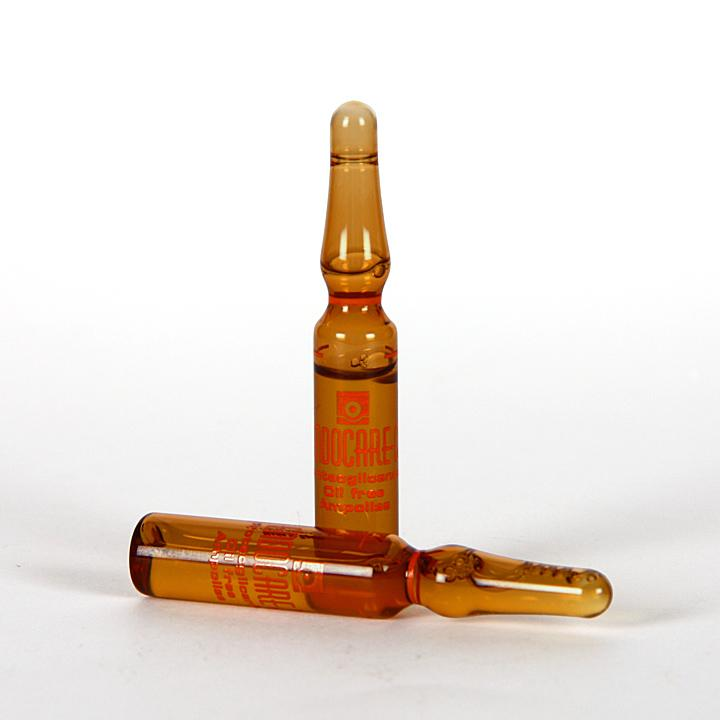Syringe: (114, 497, 618, 647), (287, 76, 443, 524)
